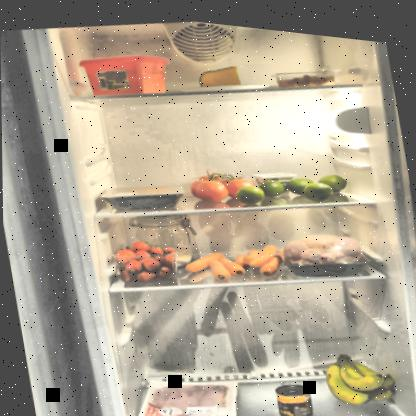banana: (319, 332, 403, 409)
beef: (98, 169, 185, 217)
butter: (76, 39, 174, 104)
carrot: (180, 228, 287, 286)
cheese: (192, 53, 247, 89)
chicken: (275, 213, 372, 279)
corn: (272, 371, 316, 415)
lime: (228, 152, 354, 210)
shrimp: (275, 59, 338, 86)
strawberries: (108, 229, 177, 286)
tomato: (184, 154, 260, 206)
